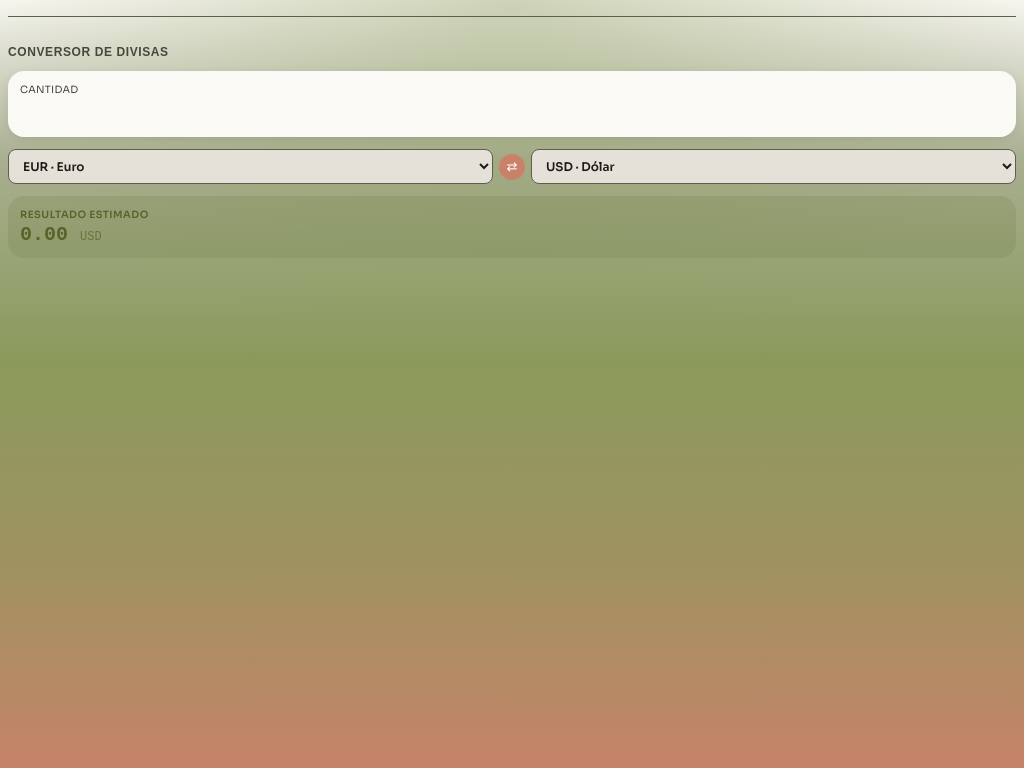
Scenario: CurrencyConverter › deberia intercambiar las divisas al pulsar el boton
Click the button with id "btn-swap-currencies". click: (512, 166)
box: [499, 154, 525, 180]
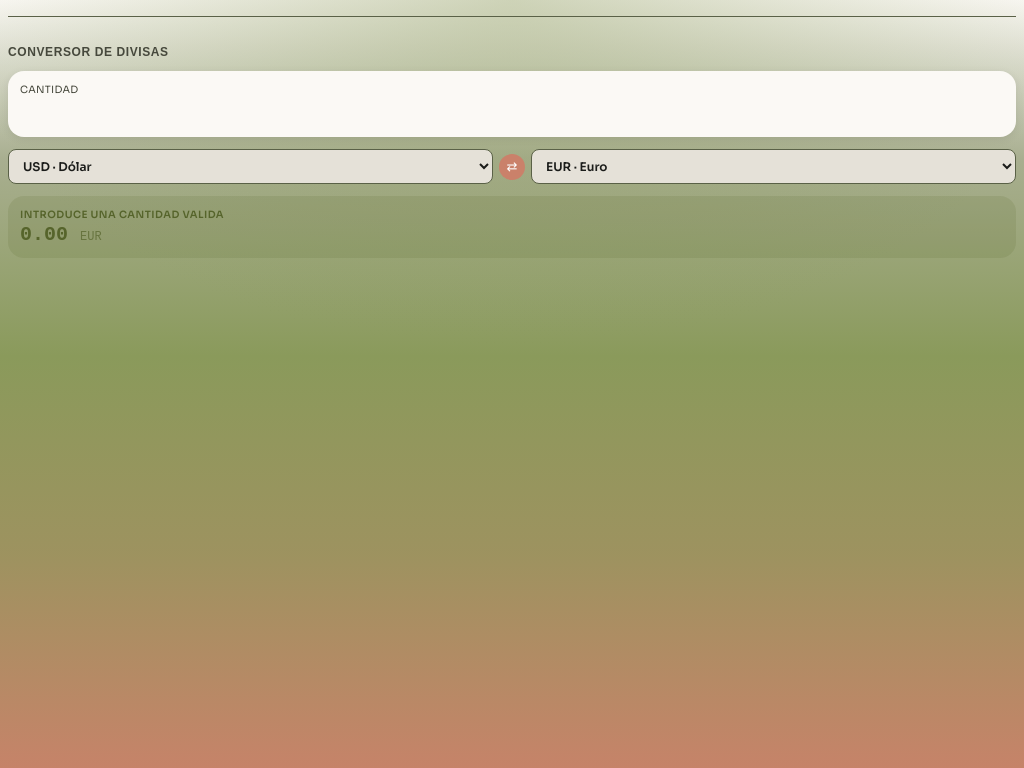
Result: the dropdown with id "currency-from" shows "USD · Dólar" at [8, 149, 493, 184]
Result: the dropdown with id "currency-to" shows "EUR · Euro" at [531, 149, 1016, 184]
